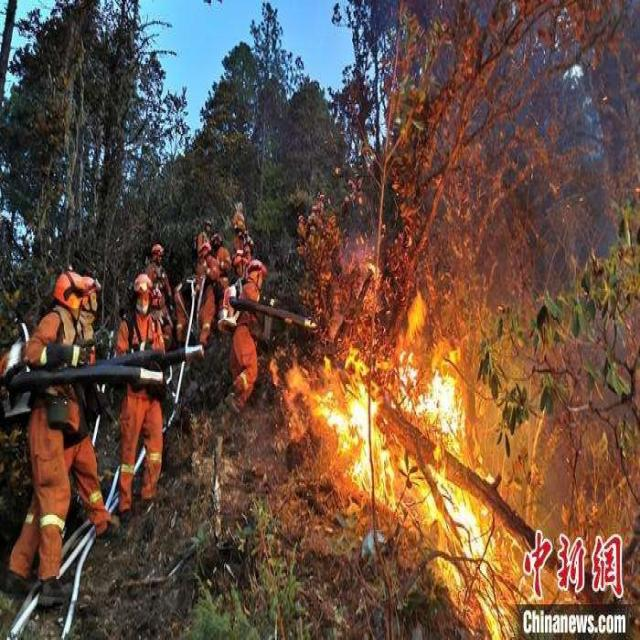fire: (292, 274, 520, 635)
